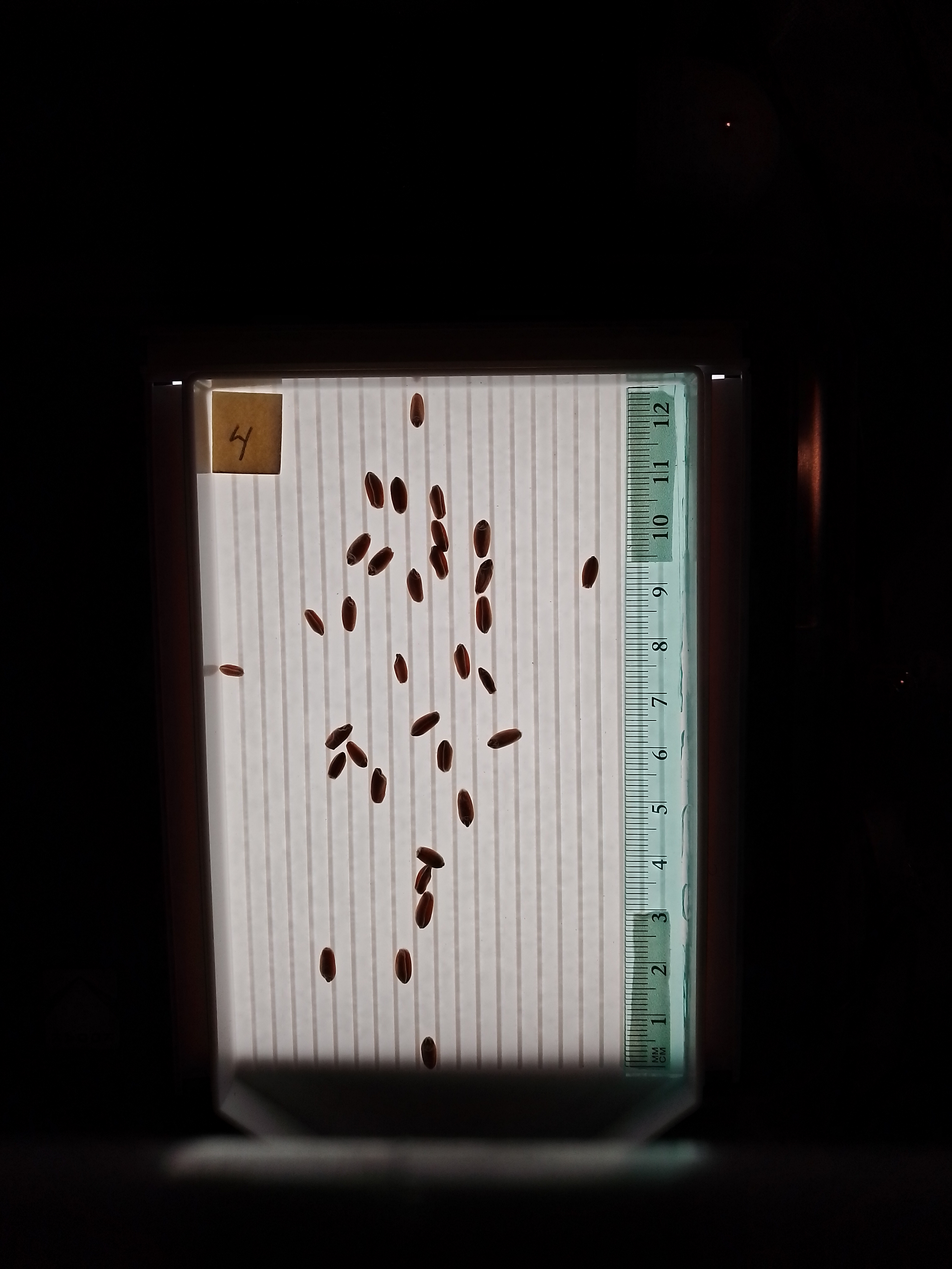seed mask: (347, 534, 371, 565), (365, 473, 385, 509), (368, 547, 393, 575), (326, 724, 352, 750), (390, 477, 408, 514), (488, 729, 521, 749), (411, 713, 439, 736), (474, 521, 491, 557), (475, 560, 493, 594), (416, 893, 433, 929), (395, 950, 413, 983), (370, 769, 387, 803), (417, 847, 444, 868), (458, 791, 474, 826), (581, 557, 599, 588), (476, 597, 491, 633), (454, 645, 470, 678), (430, 485, 446, 518), (407, 570, 423, 602), (421, 1037, 437, 1069), (342, 597, 357, 631), (431, 548, 447, 579), (437, 741, 453, 772), (320, 949, 335, 982), (347, 743, 367, 767), (328, 753, 346, 779), (432, 522, 448, 551), (305, 610, 324, 634), (410, 395, 424, 427), (415, 866, 431, 893), (479, 669, 496, 693), (394, 655, 408, 683), (220, 665, 243, 677)
